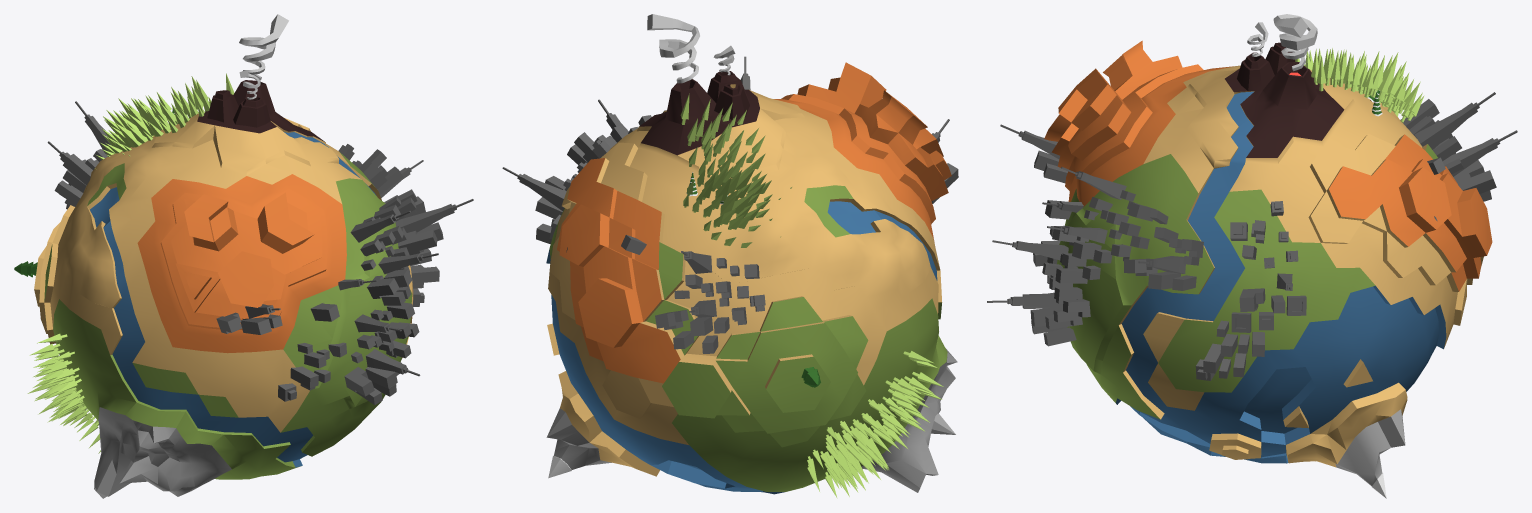
3 renders of one model, left to right at view 1: azimuth 30°, elevation 25°; view 2: azimuth 150°, elevation 25°; view 3: azimuth 270°, elevation 25°, orthographic. The views are drawn at different scales.
Parts seen in each view (by area): view 1: Ground, Rocky Mountains, Grass, Mountains, Water, City, City 3, Forest 1, City 2, City 1, Forest, Volcano (+1 smaller); view 2: Ground, Grass, Rocky Mountains, City, Water, Forest, Forest 1, Mountains, Volcano, Smoke, City 1; view 3: Ground, Water, Grass, Rocky Mountains, City, Volcano, City 2, City 3, Forest 1, Mountains, City 1, Smoke.
Part boxes in pixels (<box>): Ground: <box>34,113,413,432</box>; Rocky Mountains: <box>137,174,346,353</box>; Grass: <box>44,152,412,479</box>; Mountains: <box>94,407,231,498</box>; Water: <box>90,132,376,467</box>; City: <box>47,101,473,306</box>; City 3: <box>344,302,420,404</box>; Forest 1: <box>95,73,234,168</box>; City 2: <box>350,204,438,305</box>; City 1: <box>216,279,377,401</box>; Forest: <box>27,333,100,453</box>; Volcano: <box>197,80,324,141</box>; Ground: <box>547,84,941,476</box>; Grass: <box>549,185,947,491</box>; Rocky Mountains: <box>557,62,951,383</box>; City: <box>502,99,765,353</box>; Water: <box>546,201,937,494</box>; Forest: <box>807,351,943,498</box>; Forest 1: <box>680,93,791,247</box>; Mountains: <box>546,349,957,492</box>; Volcano: <box>639,71,759,155</box>; Smoke: <box>647,14,735,83</box>; City 1: <box>566,119,958,254</box>; Ground: <box>1118,65,1483,467</box>; Water: <box>1116,91,1446,463</box>; Grass: <box>1057,144,1437,419</box>; Rocky Mountains: <box>1044,40,1492,291</box>; City: <box>1124,92,1517,380</box>; Volcano: <box>1225,42,1344,157</box>; City 2: <box>1047,166,1156,279</box>; City 3: <box>987,240,1090,346</box>; Forest 1: <box>1295,48,1424,122</box>; Mountains: <box>1335,409,1405,486</box>; City 1: <box>1000,124,1445,277</box>; Smoke: <box>1247,14,1317,71</box>.
Size of the model in its own units: 0.1804 by 0.1857 by 0.192.
